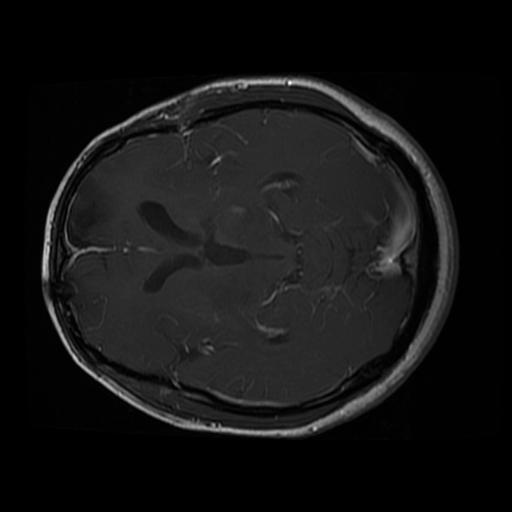glioma: (66, 175, 116, 243)
